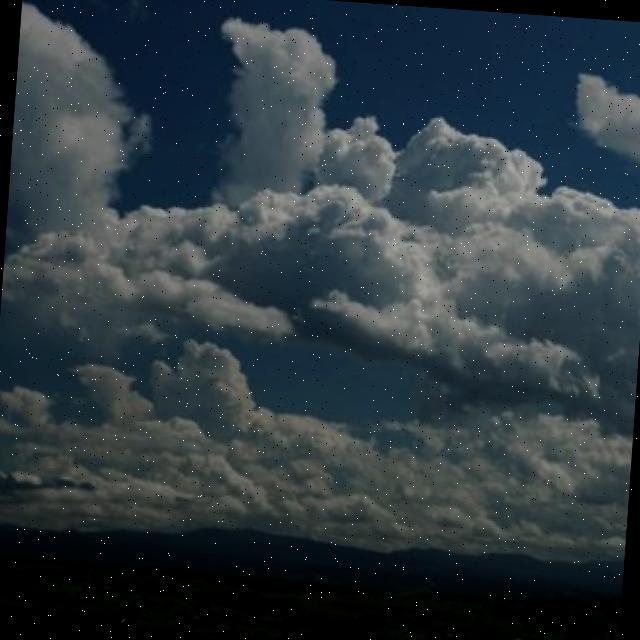Cu: (1, 102, 640, 525)
